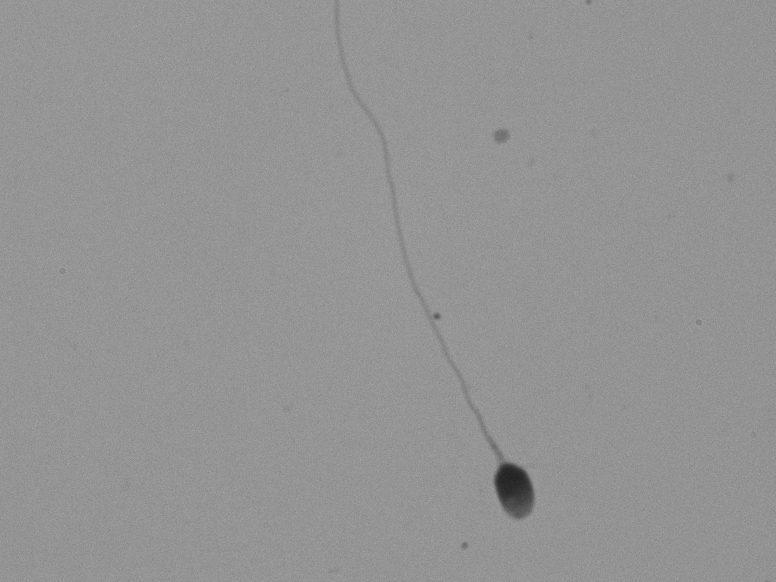Normal: (316, 13, 601, 549)
